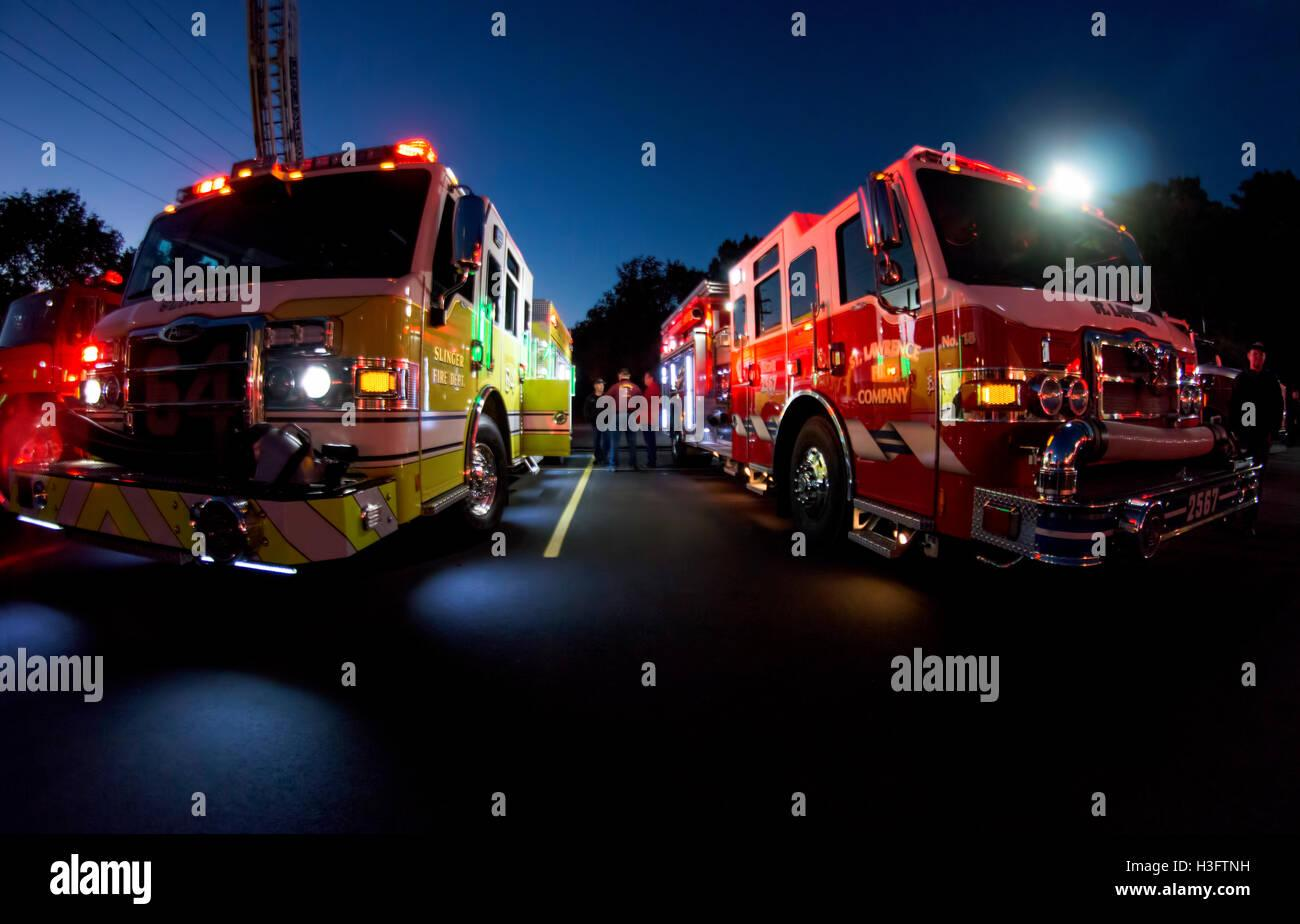firetruck_on: (660, 140, 1268, 581), (12, 141, 579, 586)
